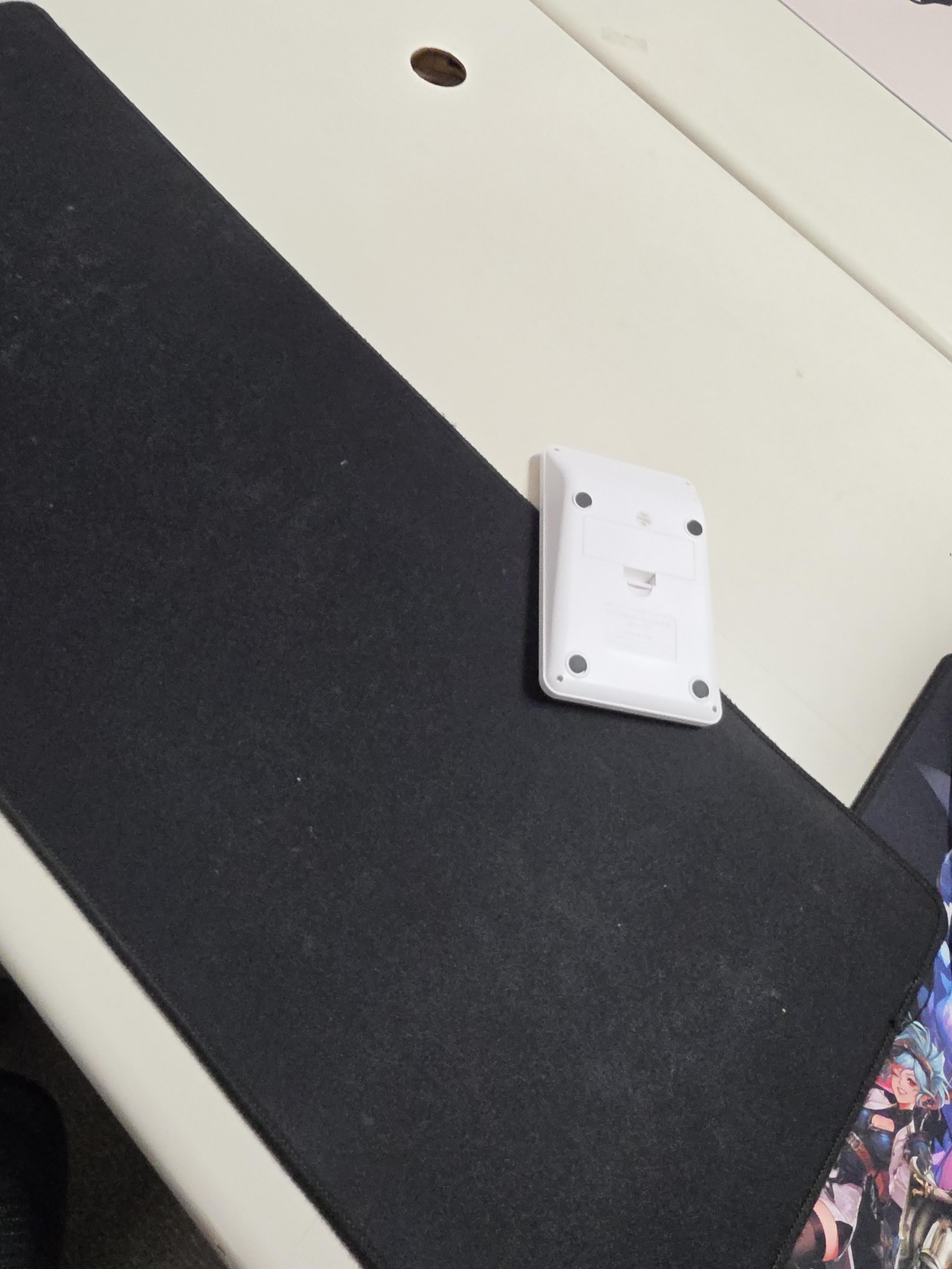calculator: (537, 445, 723, 727)
